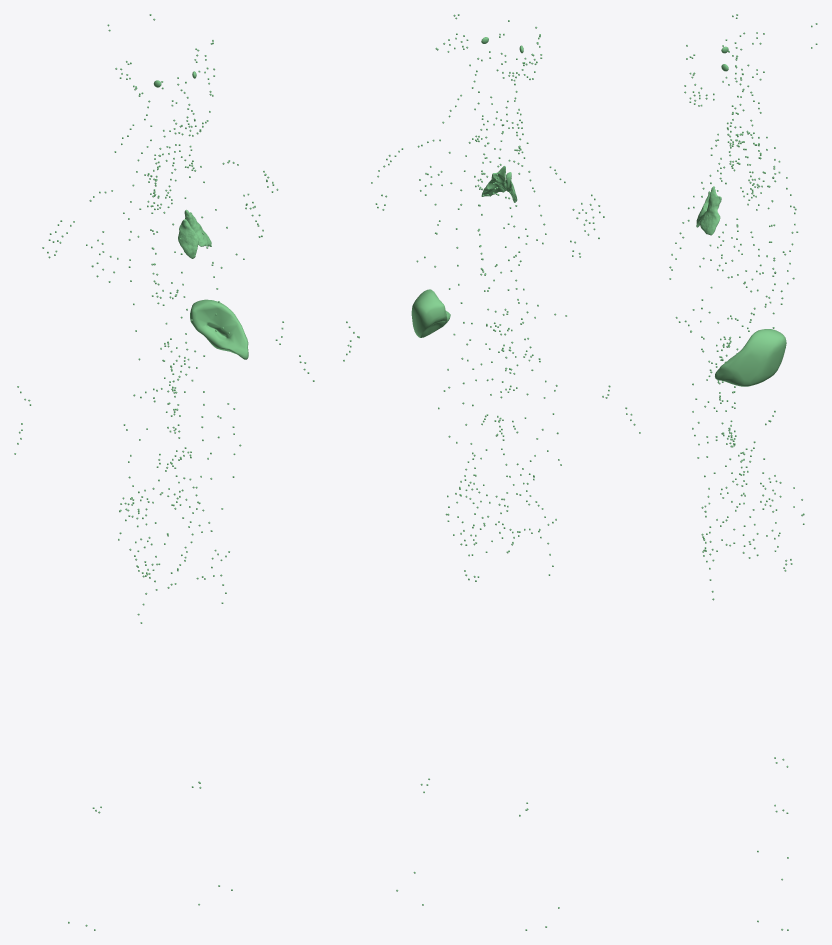
File: lymphatic.glb
3 renders of one model, left to right at view 1: azimuth 30°, elevation 25°; view 2: azimuth 150°, elevation 25°; view 3: azimuth 270°, elevation 25°, orthographic.
Parts seen in each view (by area): view 1: spleen; view 2: spleen; view 3: spleen, left-lobe-of-thymus.
Part boxes in pixels (x1=…): spleen: x1=190, y1=299, x2=248, y2=359; spleen: x1=411, y1=289, x2=450, y2=337; spleen: x1=715, y1=329, x2=786, y2=386; left-lobe-of-thymus: x1=699, y1=186, x2=721, y2=235.
Bounding box in the file's own units: 0.4523 × 1.28 × 0.1963.
